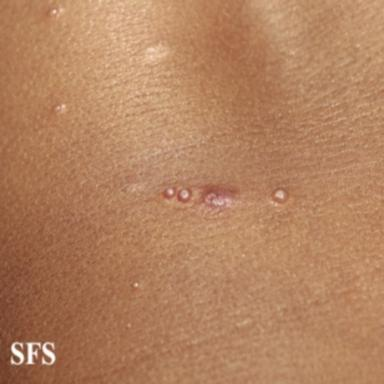Molluscum-Contagiosum: (203, 188, 234, 208), (271, 188, 289, 203), (178, 188, 191, 203), (163, 187, 175, 199), (54, 104, 66, 112), (49, 7, 59, 16), (133, 282, 139, 288)
